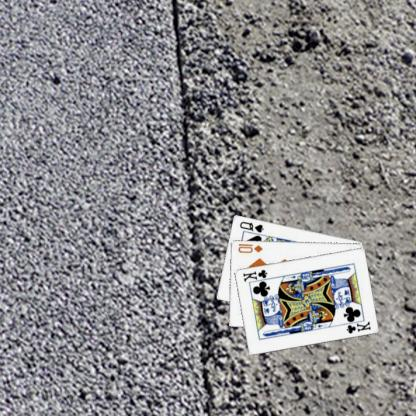10D: (237, 240, 265, 254)
KC: (342, 316, 374, 335), (242, 267, 273, 285)
QS: (239, 218, 266, 233)
